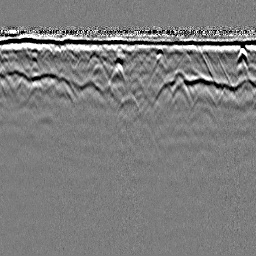cavity: (116, 91, 140, 113)
